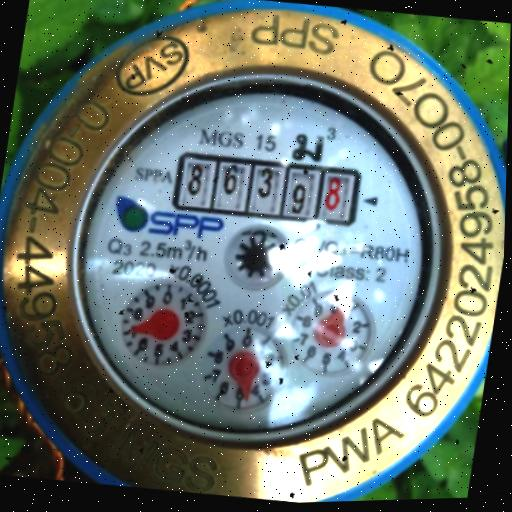3: (252, 170, 278, 215)
6: (217, 166, 243, 210)
8: (182, 164, 209, 206), (323, 177, 350, 219)
9: (288, 175, 313, 217)
border_water_meter_number: (170, 147, 364, 232)
